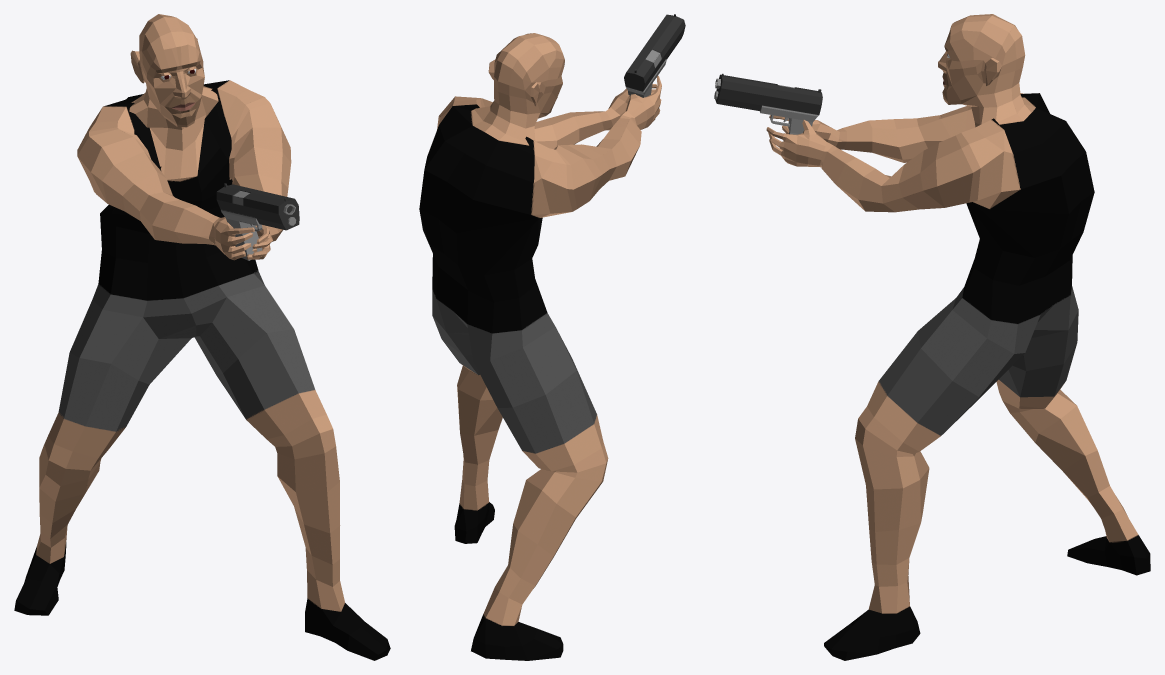
The model's file is PlayerShoot(14).obj.
3 views of the same model, side by side, from view 1: azimuth 30°, elevation 25°; view 2: azimuth 150°, elevation 25°; view 3: azimuth 270°, elevation 25° (orthographic). The views are drawn at different scales.
Parts seen in each view (by area): view 1: Plane002, Box003; view 2: Plane002, Box003; view 3: Plane002, Box003.
Part boxes in pixels (x1,y1,x2,y2): Plane002: (14, 14, 390, 660); Box003: (216, 183, 299, 260); Plane002: (419, 33, 661, 660); Box003: (624, 14, 685, 97); Plane002: (766, 14, 1150, 660); Box003: (714, 73, 822, 134).
Size of the model in its own units: 718 by 1673 by 1146.
